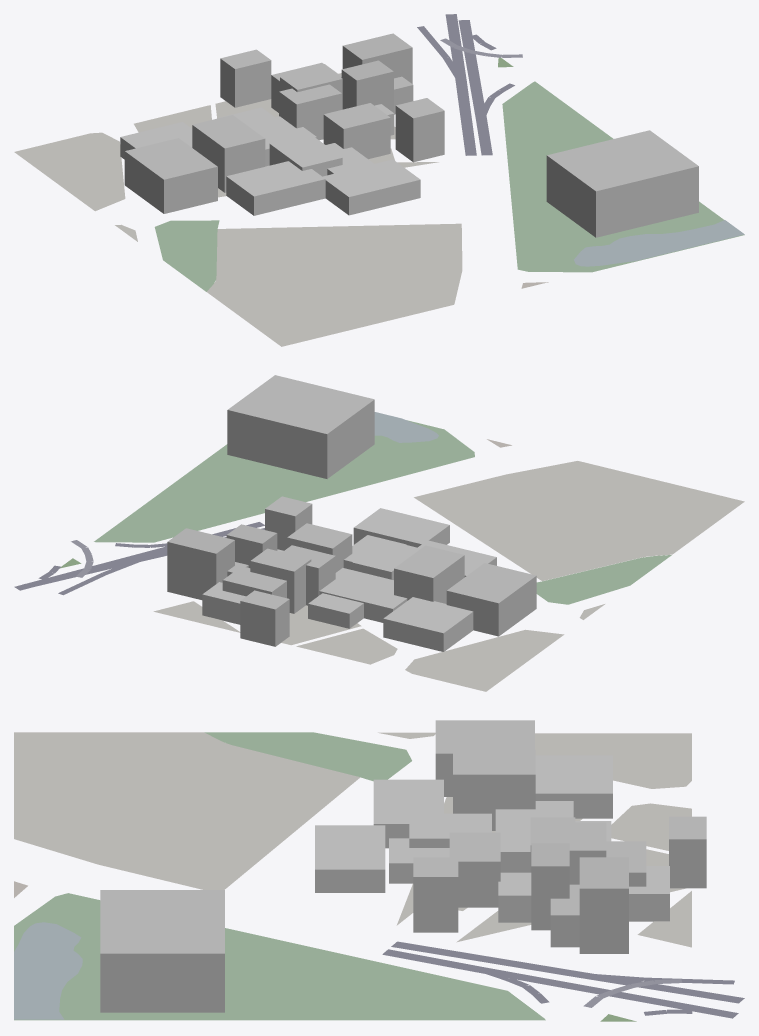
The model's file is 110_112_mid.glb.
The picture shows the model from 3 angles, top to bottom: view 1: azimuth 30°, elevation 25°; view 2: azimuth 150°, elevation 25°; view 3: azimuth 270°, elevation 25°; orthographic projection. The views are drawn at different scales.
Size of the model in its own units: 509 by 53.41 by 539.
